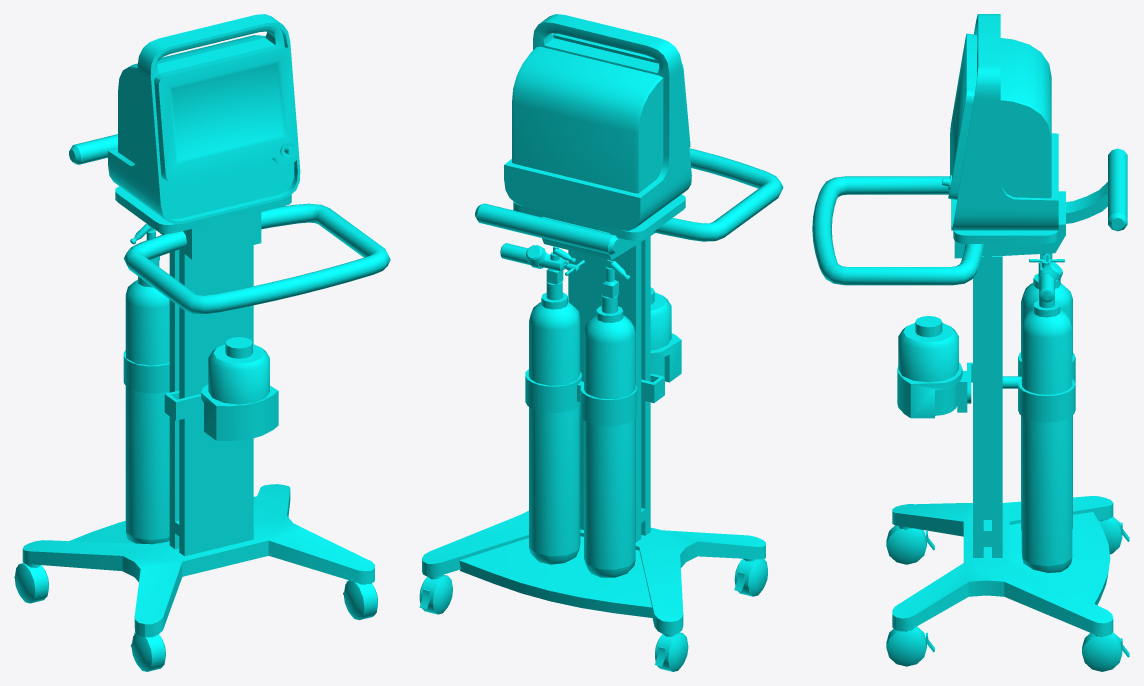
File: SM_Monitor_01b.FBX
The picture shows the model from 3 angles, left to right: view 1: azimuth 30°, elevation 25°; view 2: azimuth 150°, elevation 25°; view 3: azimuth 270°, elevation 25°; orthographic projection. The views are drawn at different scales.
Visible parts, largest first — view 1: SM_Monitor_01b_LOD0; view 2: SM_Monitor_01b_LOD0; view 3: SM_Monitor_01b_LOD0.
Boxes of the visible parts, x1,y1,x2,y2 form: SM_Monitor_01b_LOD0: [14, 14, 390, 671]; SM_Monitor_01b_LOD0: [419, 14, 783, 671]; SM_Monitor_01b_LOD0: [812, 14, 1129, 671].
Size of what is drawn, in the model's own units: 65.15 by 136 by 68.47.
